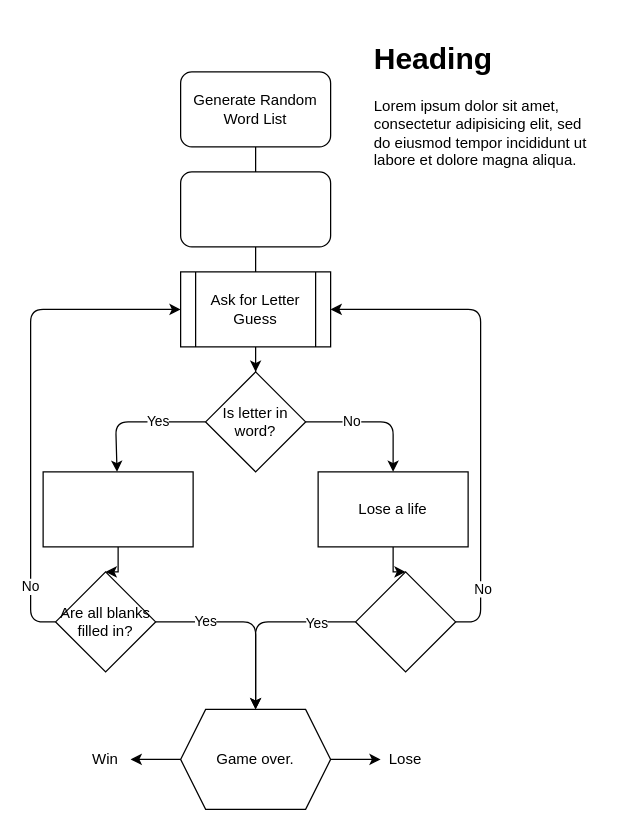
Some shapes in this 628 by 831 pixel diagram are drawn without their labels. The centre of each missing label's shape, as x and y in pixels:
Generate Blanks for number of letters in random word: point 255,209
Have they run out of lives?: point 405,621
Replace blank with letter.: point 117,509
